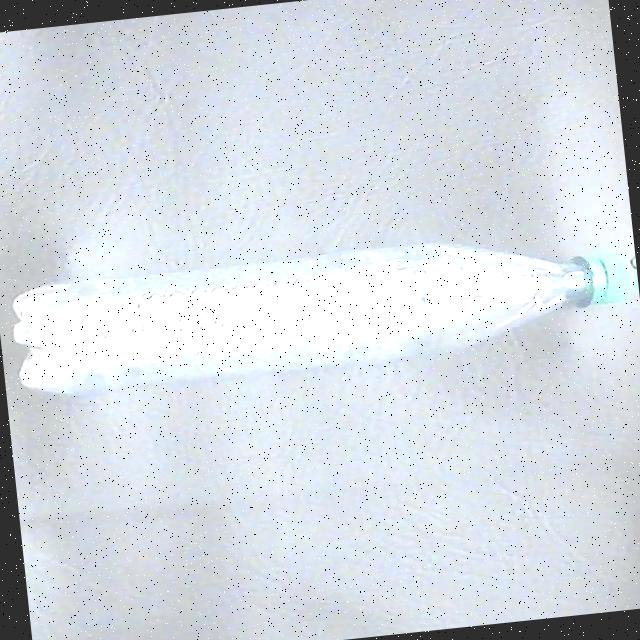bottle: (5, 216, 640, 404)
cap: (562, 240, 636, 318)
